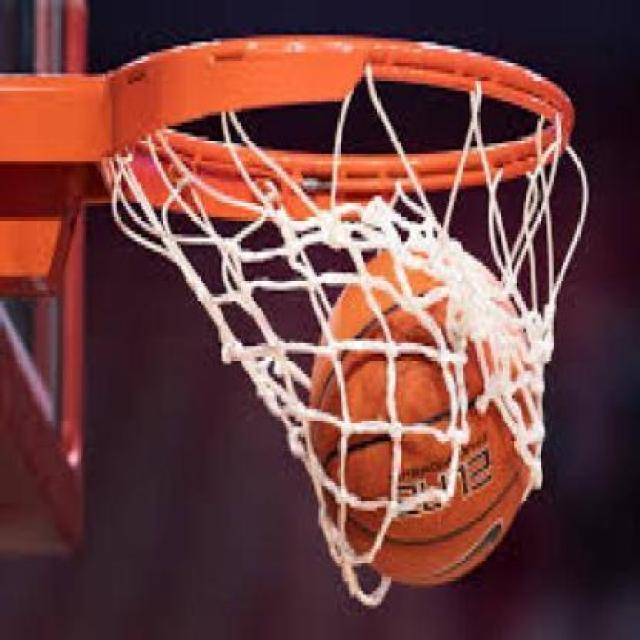basketball: (304, 248, 544, 584)
hoop: (92, 31, 594, 614), (93, 31, 593, 612)
